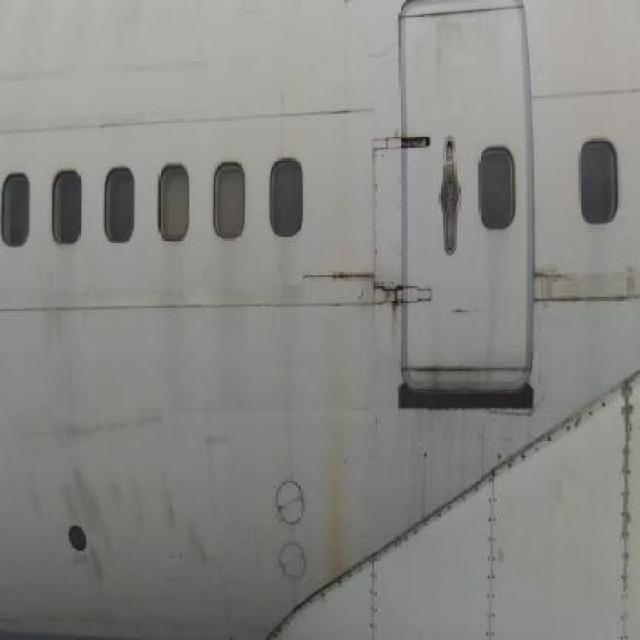Missing-Rivet: (378, 480, 479, 569), (502, 407, 609, 481), (266, 561, 366, 640), (480, 469, 511, 640), (617, 387, 637, 625), (367, 554, 385, 635)
Rust: (312, 350, 365, 581), (331, 130, 363, 278)
Scartch: (7, 460, 221, 594), (535, 244, 640, 330), (8, 398, 168, 454), (105, 43, 221, 102), (0, 46, 98, 102), (264, 72, 296, 159), (197, 414, 235, 458)
